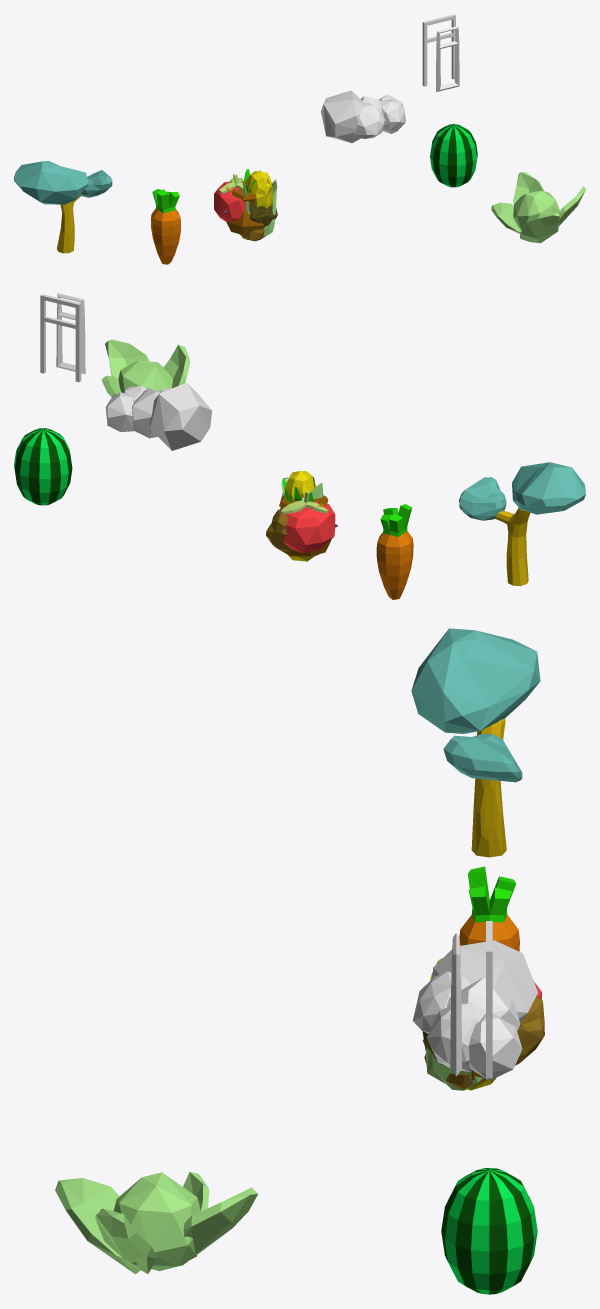
Rendered from foods.fbx.
The picture shows the model from 3 angles, top to bottom: view 1: azimuth 30°, elevation 25°; view 2: azimuth 150°, elevation 25°; view 3: azimuth 270°, elevation 25°; orthographic projection. The views are drawn at different scales.
Visible parts, largest first — view 1: Watermelon, Leaves, Carrot, Icosphere.001, Cabbage, Cube.002, Cube, Tomato, Cube.001, Icosphere.004, SpaceCorn, Tree (+8 smaller); view 2: Watermelon, Leaves, Icosphere.001, Carrot, Tomato, Tree, Leaves1, Cube, Cabbage, Cube.001, Cube.004, Icosphere (+6 smaller); view 3: Leaves, Watermelon, Cabbage, Icosphere.001, Carrot, Cube.002, Leaves1, Tree, Icosphere, Cube.003, Cube.004, Icosphere.003 (+5 smaller).
Boxes of the visible parts, x1,y1,x2,y2 form: Watermelon: (430,124,477,187); Leaves: (14,161,88,204); Carrot: (151,189,180,264); Icosphere.001: (321,90,364,142); Cabbage: (513,190,559,230); Cube.002: (520,212,559,243); Cube: (422,14,455,86); Tomato: (214,181,250,221); Cube.001: (436,26,459,91); Icosphere.004: (353,103,384,138); SpaceCorn: (245,171,272,208); Tree: (57,195,80,253); Watermelon: (14,428,72,505); Leaves: (512,462,585,514); Icosphere.001: (149,382,212,450); Carrot: (376,504,413,599); Tomato: (283,501,335,552); Tree: (494,507,530,586); Leaves1: (459,477,506,520); Cube: (40,294,81,382); Cabbage: (118,360,172,392); Cube.001: (56,293,85,374); Cube.004: (105,339,148,379); Icosphere: (105,392,133,431); Leaves: (411,628,540,733); Watermelon: (441,1168,537,1294); Cabbage: (113,1172,200,1271); Icosphere.001: (432,940,537,1022); Carrot: (459,866,519,951); Cube.002: (55,1178,140,1274); Leaves1: (443,733,522,782); Tree: (471,718,506,857); Icosphere: (468,1013,522,1080); Cube.003: (179,1187,257,1265); Cube.004: (95,1208,157,1273); Icosphere.003: (427,1003,485,1071).
Size of the model in its own units: 3334 by 1189 by 1474.
